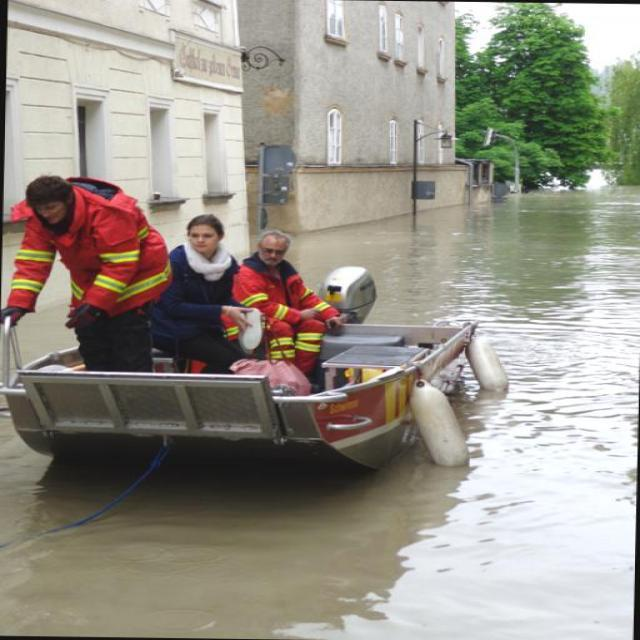flood: (0, 190, 639, 639)
